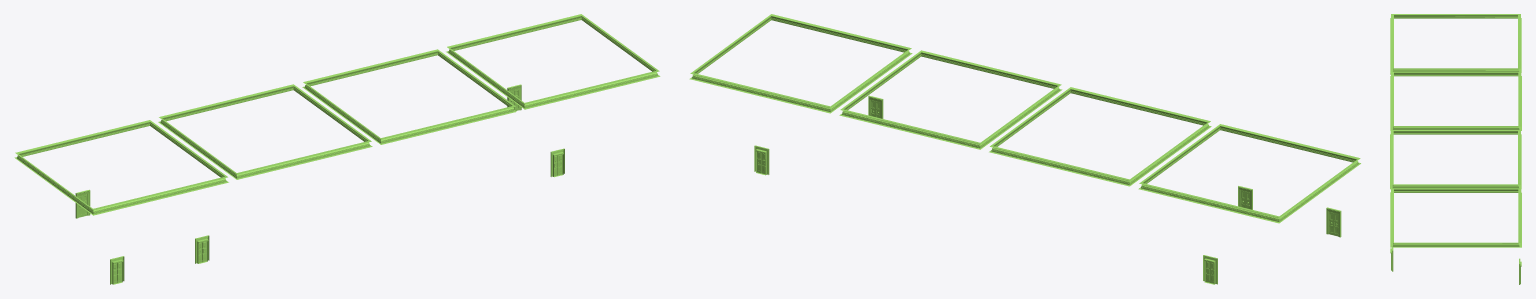
File: 3D_Map_03_a.fbx
The picture shows the model from 3 angles, left to right: view 1: azimuth 30°, elevation 25°; view 2: azimuth 150°, elevation 25°; view 3: azimuth 270°, elevation 25°; orthographic projection. The views are drawn at different scales.
Parts seen in each view (by area): view 1: pPlane5, pPlane4, pPlane6, pPlane3; view 2: pPlane6, pPlane4, pPlane5, pPlane3, polySurface148, porta_tipo2_pSphere2; view 3: pPlane4, pPlane3, pPlane5, pPlane6.
Part boxes in pixels (x1,y1,x2,y2): pPlane5: (158, 84, 372, 179); pPlane4: (446, 14, 660, 109); pPlane6: (14, 120, 228, 215); pPlane3: (302, 49, 516, 144); pPlane6: (1138, 124, 1360, 223); pPlane4: (689, 14, 912, 113); pPlane5: (989, 87, 1211, 186); pPlane3: (839, 50, 1062, 149); polySurface148: (754, 145, 769, 175); porta_tipo2_pSphere2: (1326, 207, 1341, 237); pPlane4: (1390, 188, 1521, 247); pPlane3: (1390, 130, 1521, 189); pPlane5: (1390, 71, 1521, 130); pPlane6: (1390, 14, 1521, 72).
Size of the model in its own units: 5930 by 801 by 1436.
